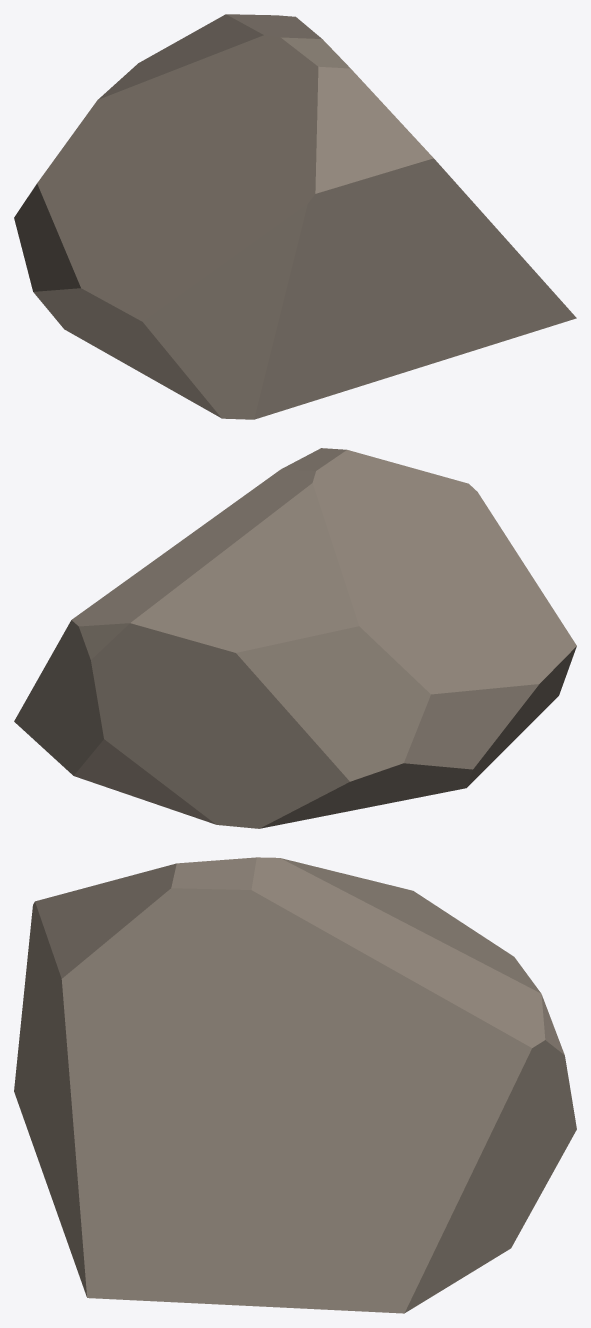
Rendered from Stone3.3.glb.
3 views of the same model, one above another, from view 1: azimuth 30°, elevation 25°; view 2: azimuth 150°, elevation 25°; view 3: azimuth 270°, elevation 25° (orthographic). The views are drawn at different scales.
Parts seen in each view (by area): view 1: Stone3.3; view 2: Stone3.3; view 3: Stone3.3.
Part boxes in pixels (x1,y1,x2,y2): Stone3.3: (14,14,576,419); Stone3.3: (14,448,576,828); Stone3.3: (14,857,576,1313).
Bounding box in the file's own units: 2.81 × 1.6 × 2.57.
